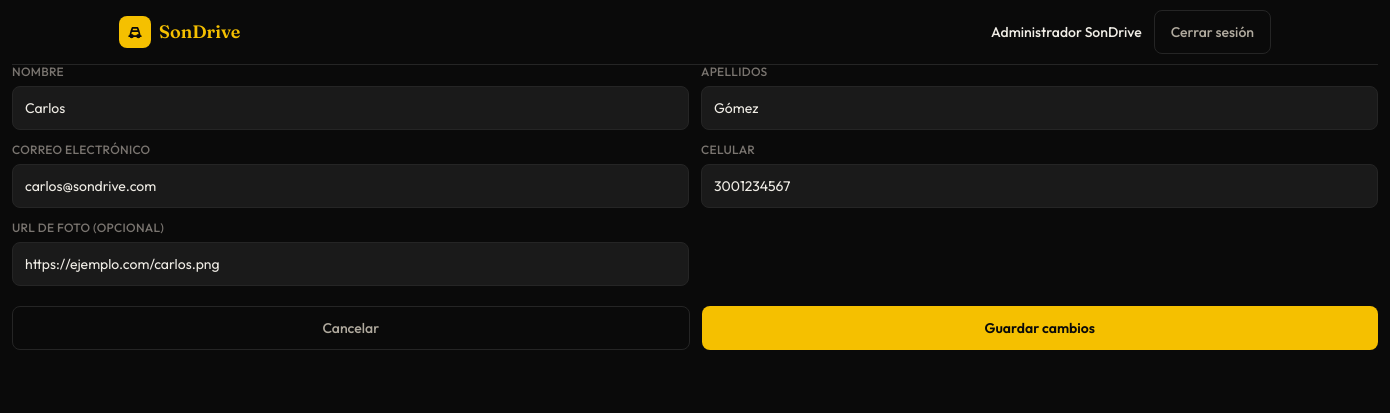
it: FormularioEditarConductor › muestra junto a cada campo los errores de validación del servidor
Click the button "Guardar cambios" at (1040, 328), box [702, 306, 1378, 350]
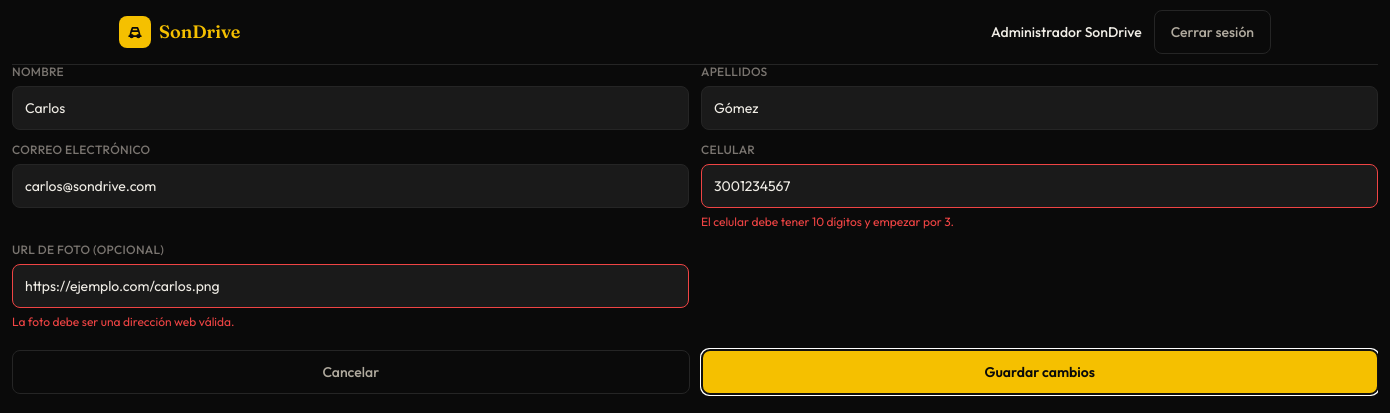
Expected: the text "El celular debe tener 10 dígitos y empezar por 3." is shown, [701, 214, 954, 229]
Expected: the text "La foto debe ser una dirección web válida." is shown, [12, 314, 234, 329]
